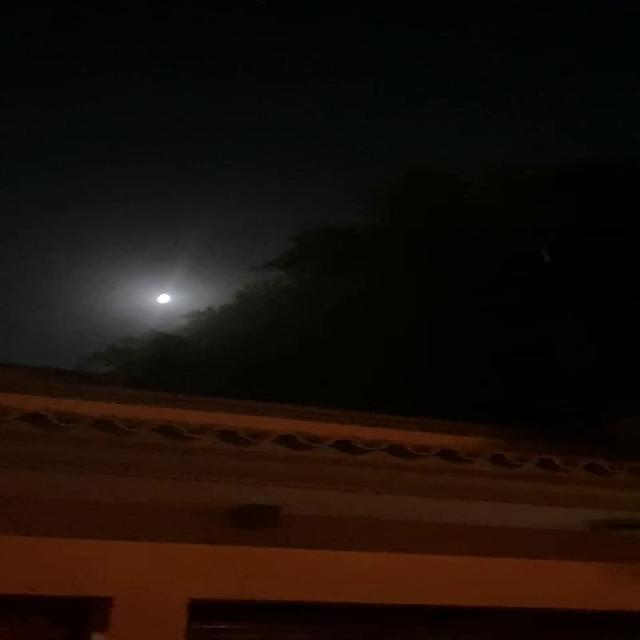moon: (143, 283, 178, 308)
